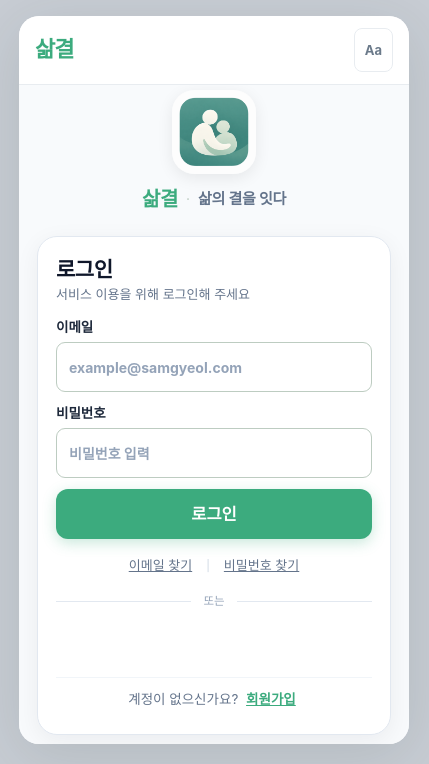
Test case: 잘못된 인증 정보를 안내하고 재시도할 수 있다
This screenshot has width=429, height=764.
Type "test@example.com" into the field labelled "이메일". click: (214, 367)
box: left=56, top=342, right=372, bottom=392
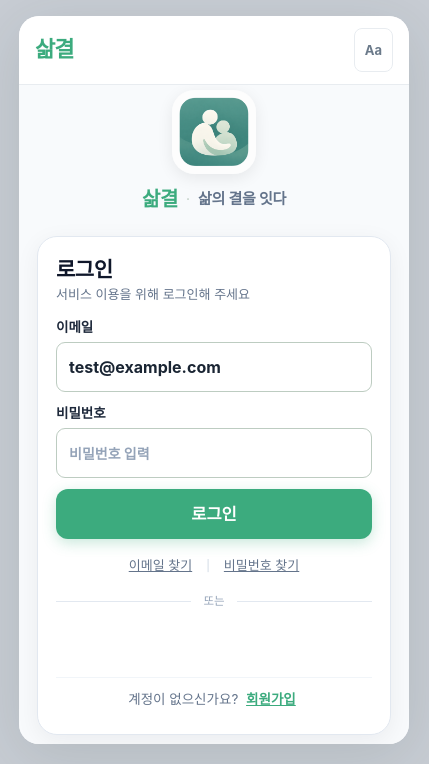
Type "test-password" into the password field labelled "비밀번호". click: (214, 453)
box: left=56, top=428, right=372, bottom=478
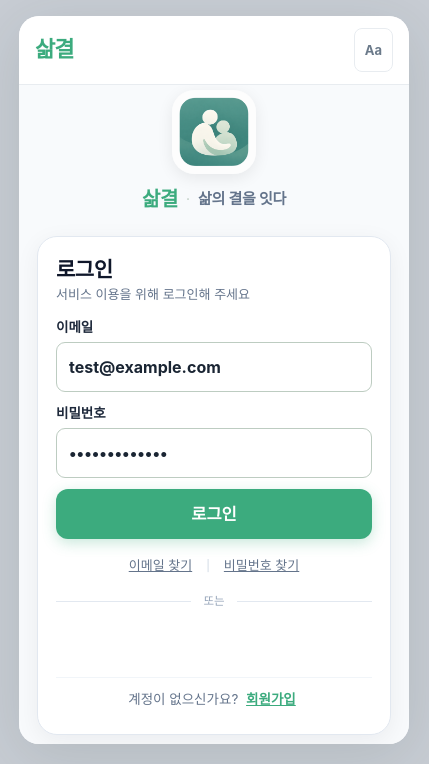
Click the button "로그인". click: (214, 514)
box: left=56, top=489, right=372, bottom=539
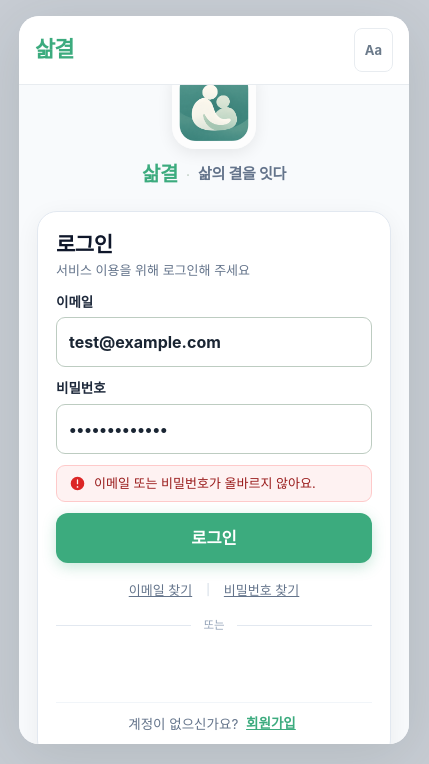
Expected: the button "로그인" is enabled, left=56, top=513, right=372, bottom=563
Expected: the message reads "이메일 또는 비밀번호가 올바르지 않아요.", left=94, top=475, right=316, bottom=491
